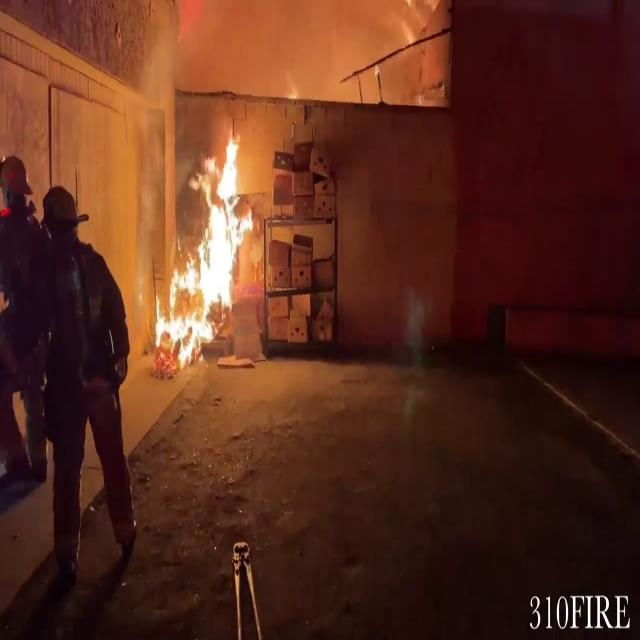Fire: (156, 127, 254, 362)
